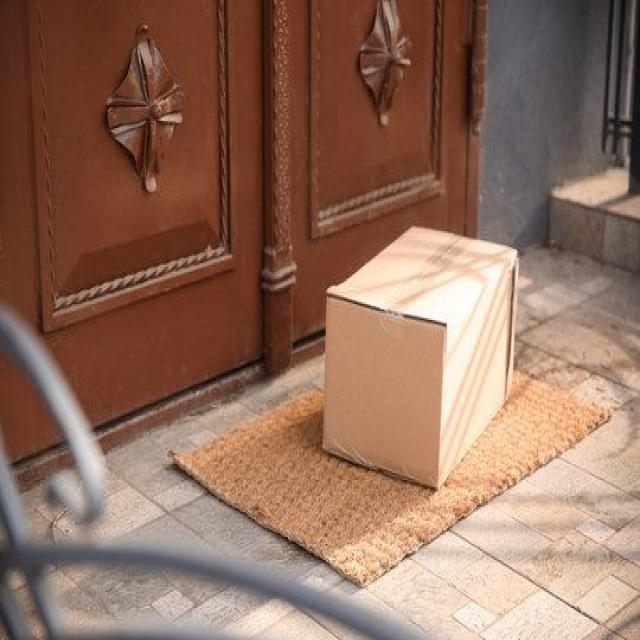box: (322, 218, 526, 494)
